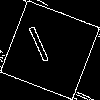I: (25, 25, 57, 72)
